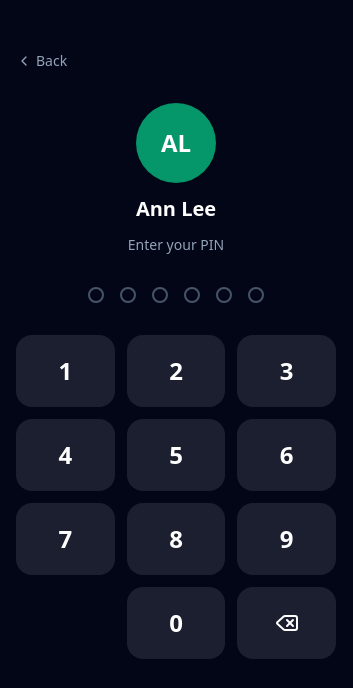
Test: POS login on an unregistered till › still shows the countdown for a 429
Earlier steps of the test are not shown.
Click the button "1" at (65, 371), box [16,335,115,407]
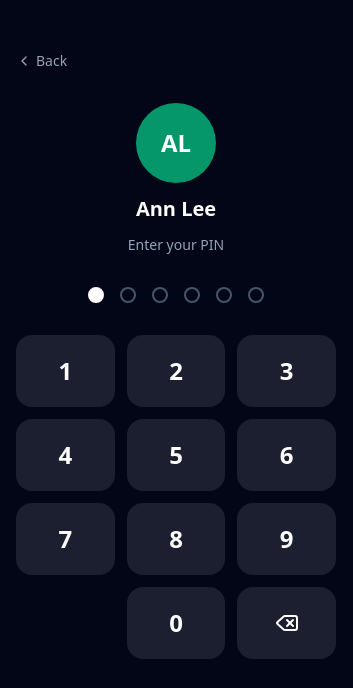
Click the button "2" at (176, 371), box [127,335,225,407]
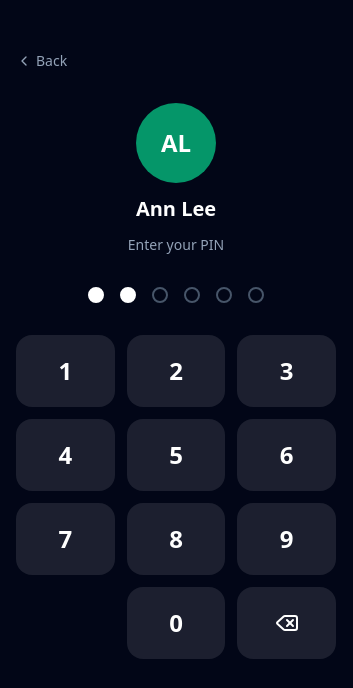
Click the button "3" at (287, 371), box [237,335,336,407]
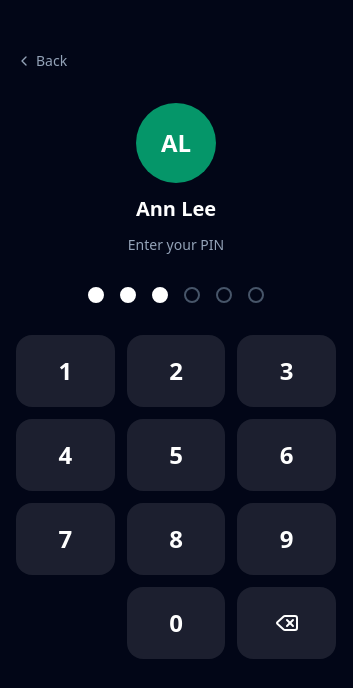
Click the button "4" at (65, 455), box [16,419,115,491]
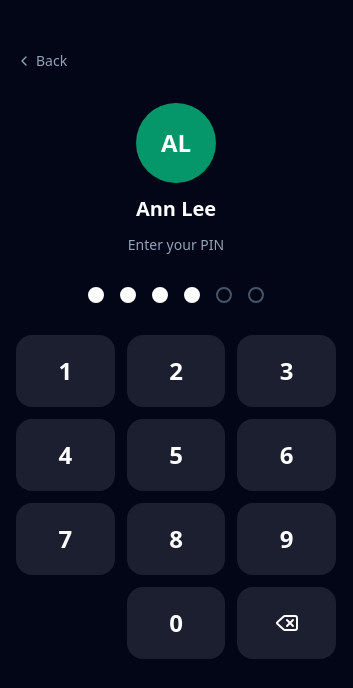
Click the button "5" at (176, 455), box [127,419,225,491]
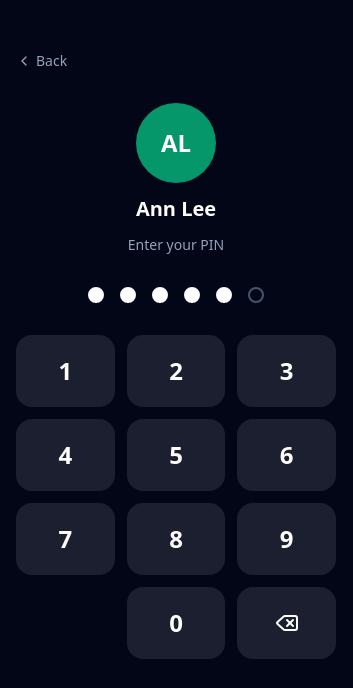
Click the button "6" at (287, 455), box [237,419,336,491]
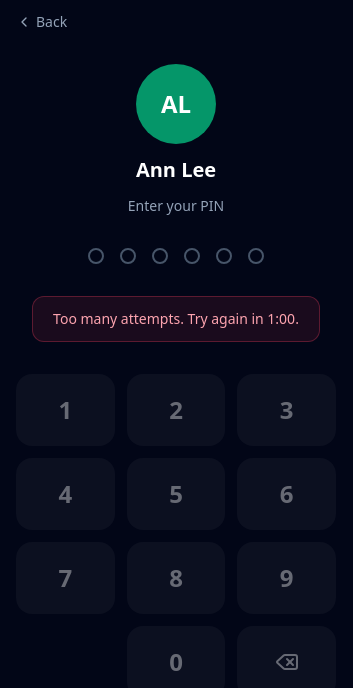
Result: the text "Too many attempts. Try again in 1:00." is shown at [32,296,320,342]
